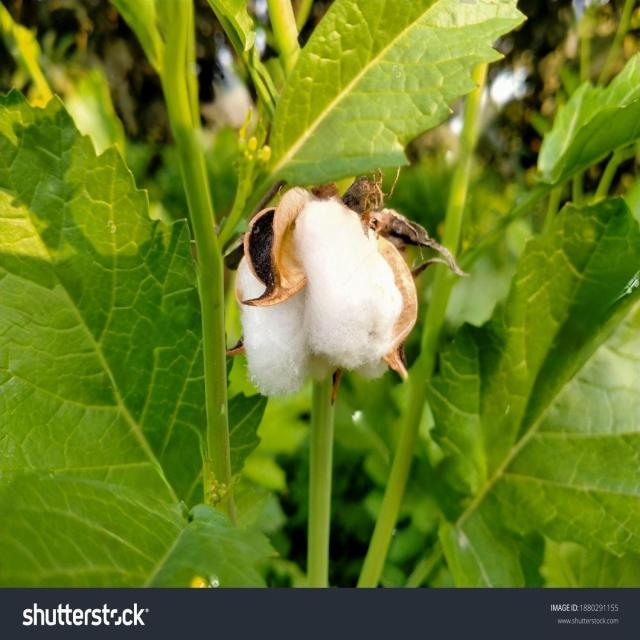Leaf: (206, 170, 489, 418)
